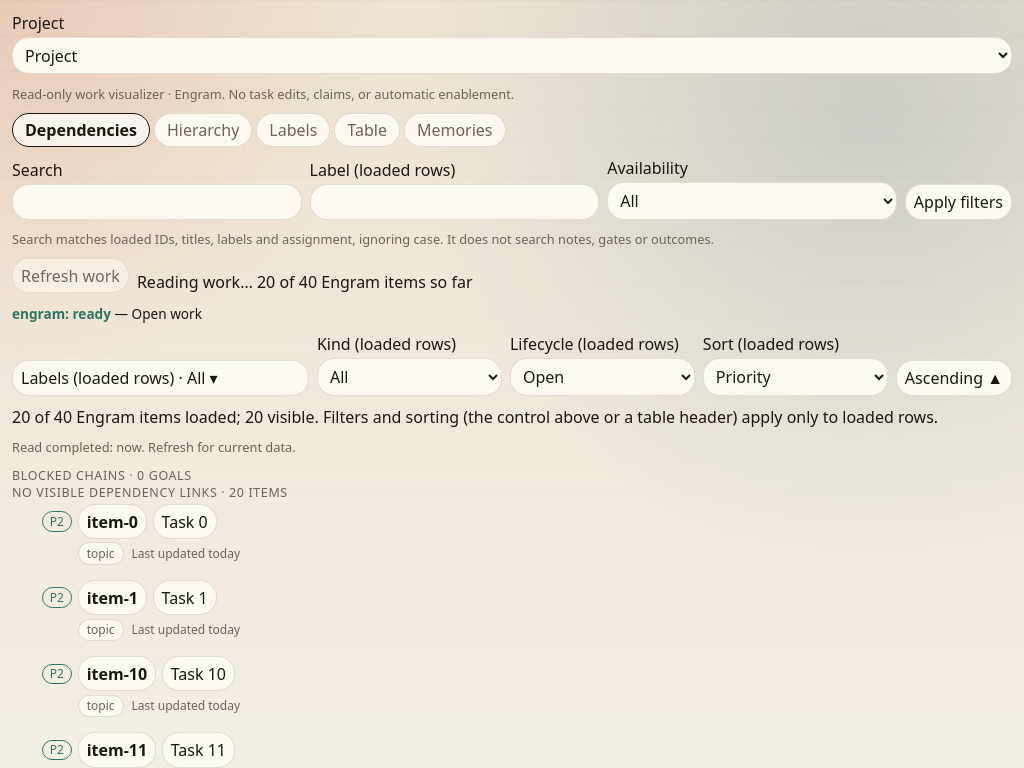
Work serial paging › keeps the pending continuation across Search changes
The image size is (1024, 768).
Type "Task 2" into the field labelled "Search" at (157, 202), box left=12, top=184, right=302, bottom=220
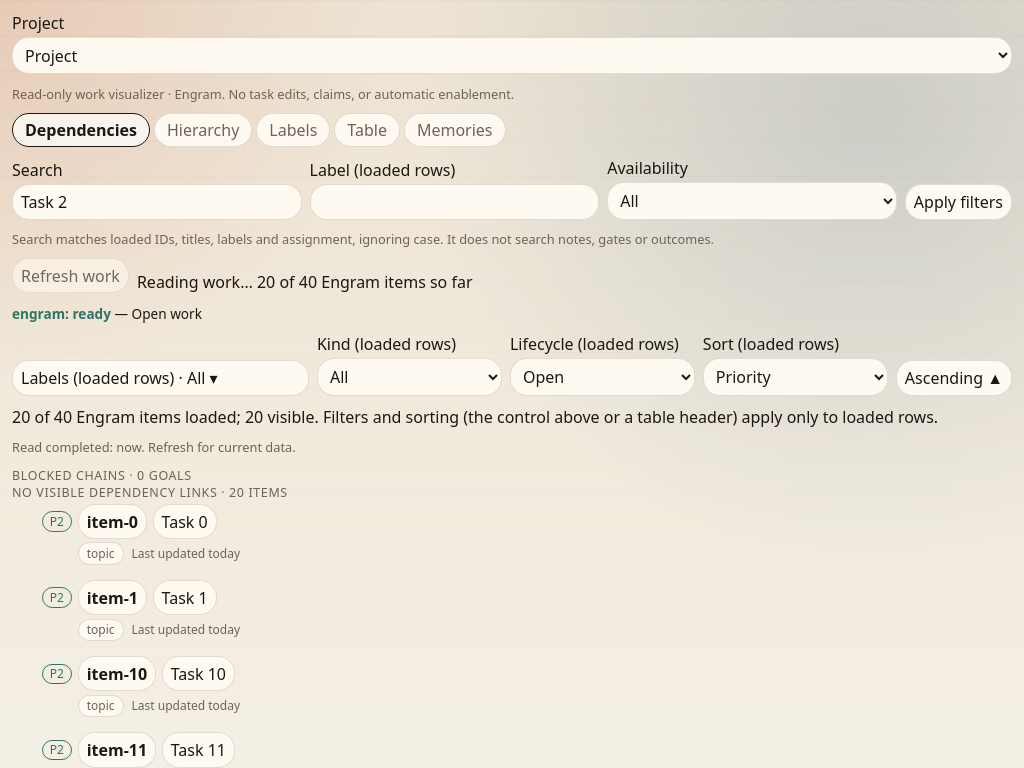
Click the button "Apply filters" at (958, 202), box left=905, top=184, right=1012, bottom=220
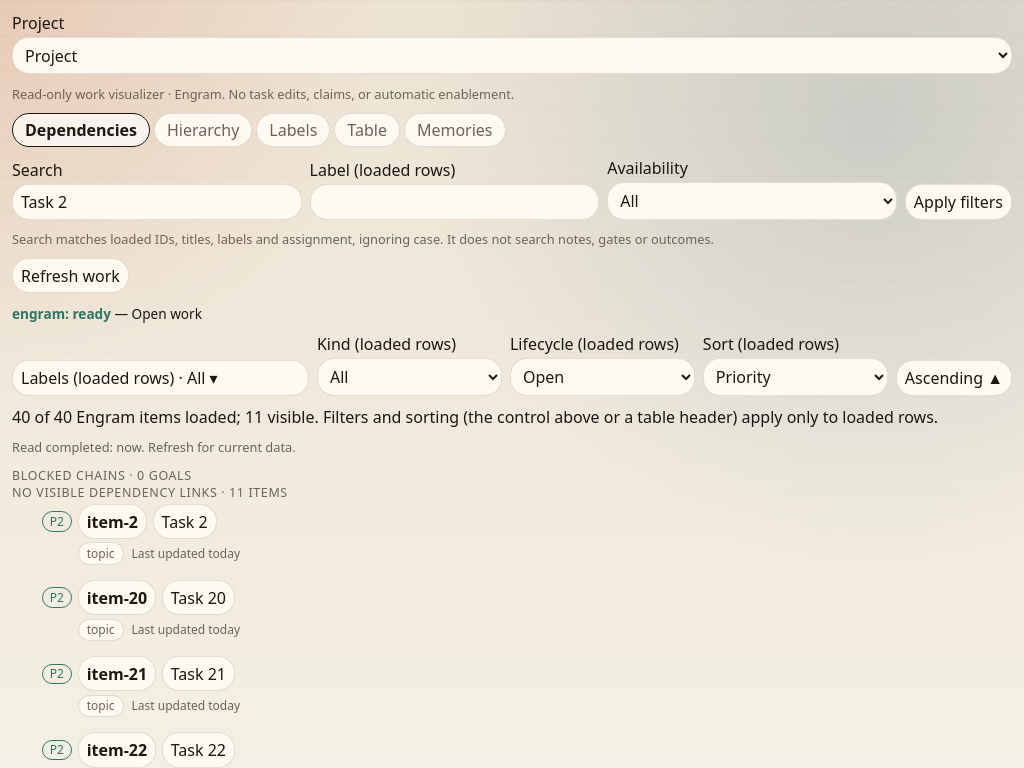
Expected: the button with aria-label "item-20 — Task 20" is shown, left=162, top=580, right=235, bottom=615
